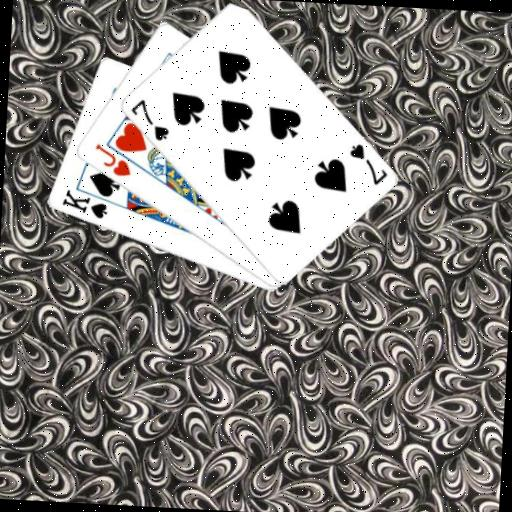7S: (126, 95, 173, 143), (344, 140, 390, 188)
JH: (90, 140, 134, 179)
KS: (58, 187, 110, 222)
